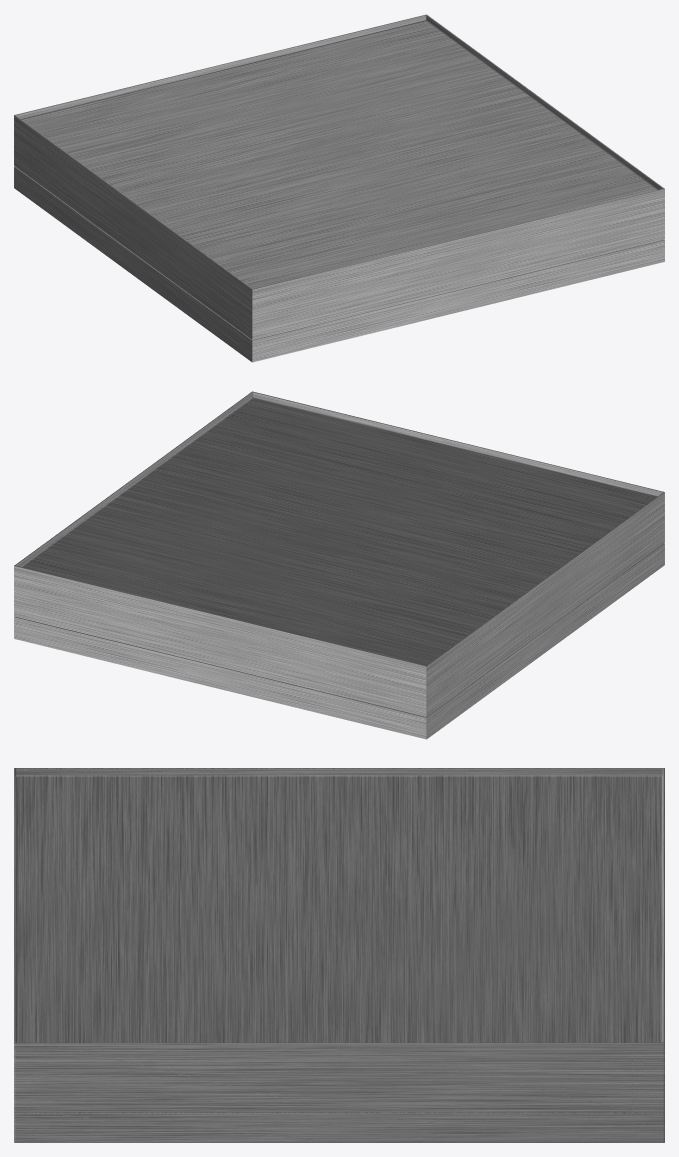
File: AM152_004 Tlon Cubo 590 Ceiling_satin.obj
3 views of the same model, one above another, from view 1: azimuth 30°, elevation 25°; view 2: azimuth 150°, elevation 25°; view 3: azimuth 270°, elevation 25° (orthographic). The views are drawn at different scales.
Parts seen in each view (by area): view 1: AM152_004_body_s; view 2: AM152_004_body_s; view 3: AM152_004_body_s.
Boxes of the visible parts, left/top/right/bottom form: AM152_004_body_s: left=14, top=14, right=664, bottom=362; AM152_004_body_s: left=14, top=391, right=664, bottom=739; AM152_004_body_s: left=14, top=768, right=664, bottom=1142.
Bounding box in the file's own units: 59 × 10.01 × 59.
